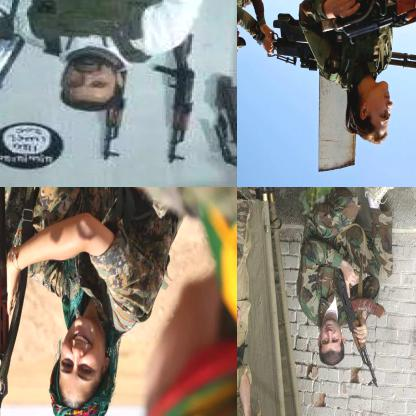rifle: (263, 9, 415, 94), (332, 257, 392, 388), (156, 34, 203, 163), (86, 65, 134, 163), (0, 26, 24, 172), (321, 0, 415, 37), (216, 73, 236, 186)
